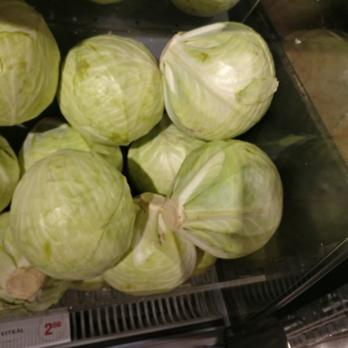Cabbage: (2, 0, 289, 294)
